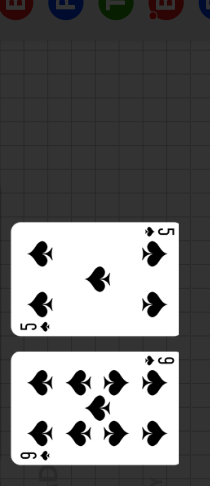5S: (143, 226, 176, 239)
9S: (19, 449, 53, 462)
